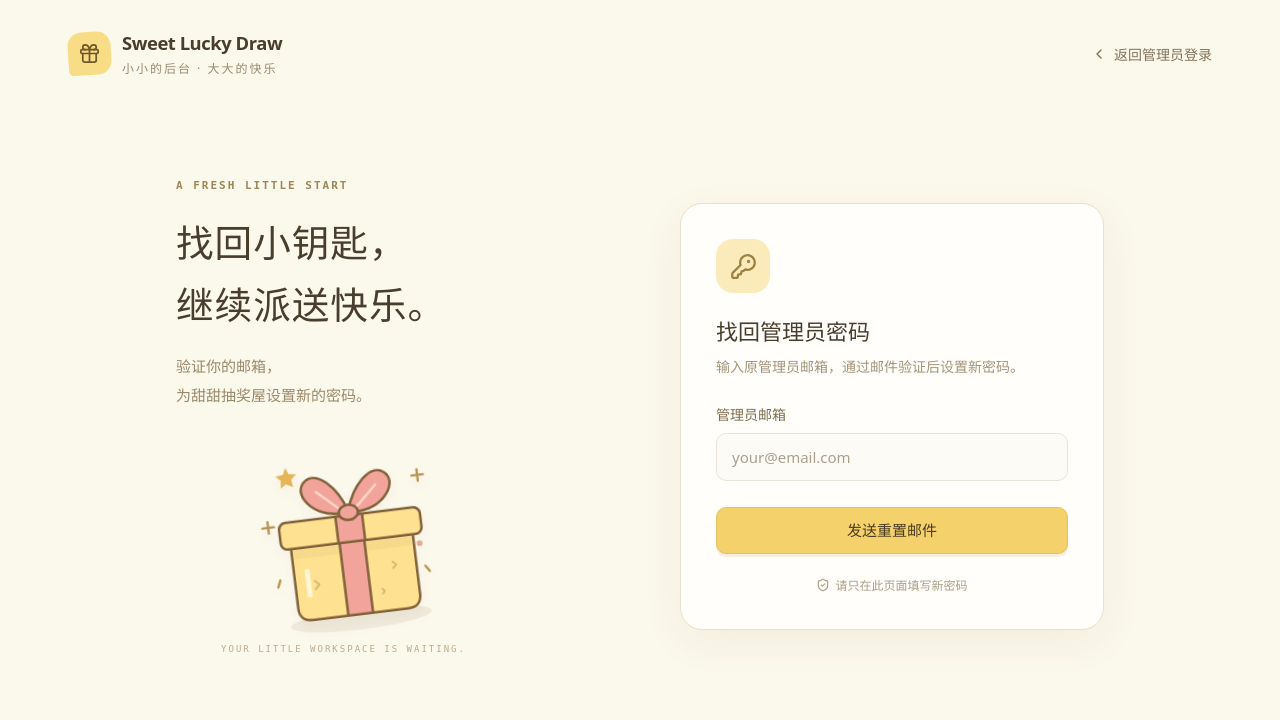
Test: password recovery › reports email configuration failure without claiming the message was sent
Type "admin@example.test" into the field labelled "管理员邮箱" at (892, 457), box [716,433,1068,481]
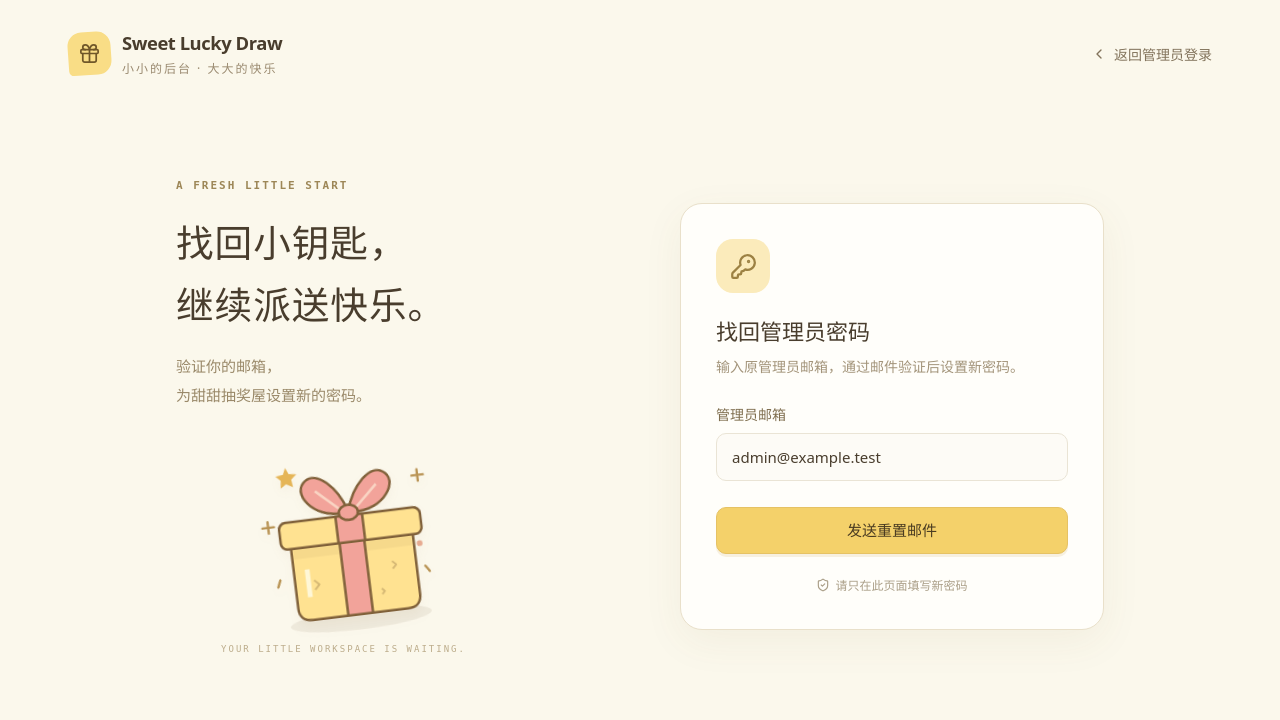
Click the button "发送重置邮件" at (892, 531), box [716,507,1068,554]
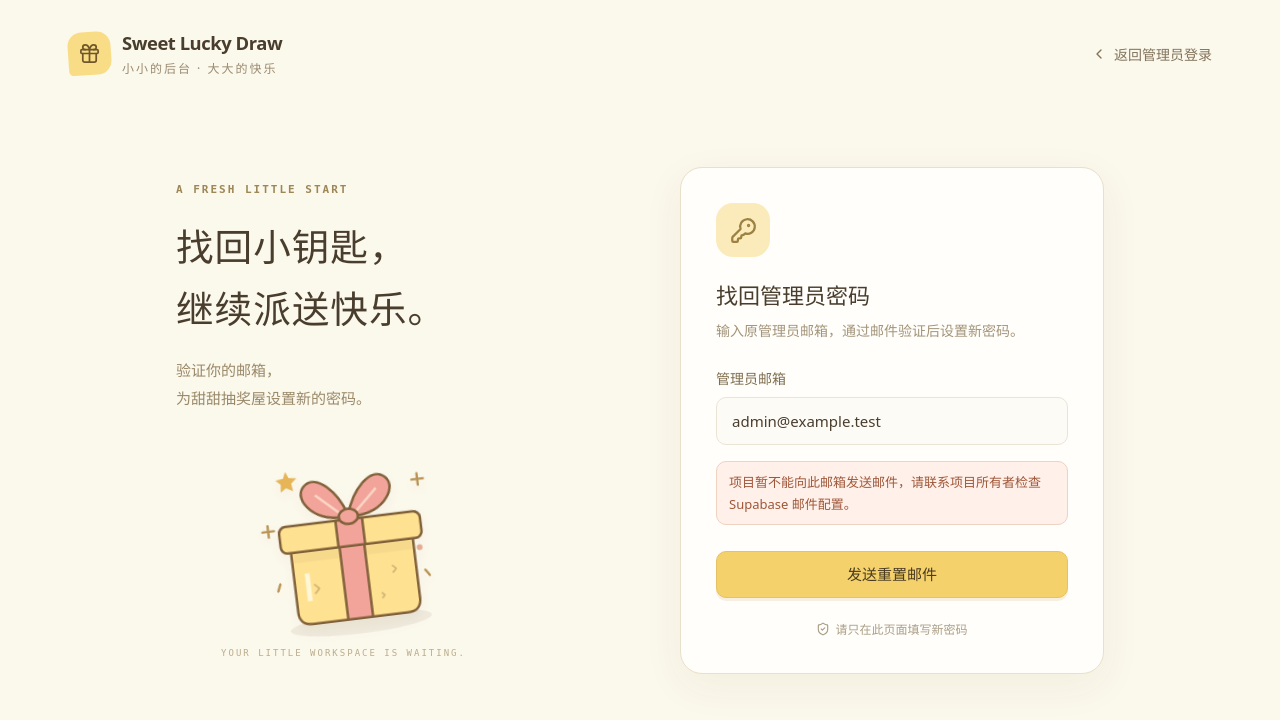
Result: the message shows "项目暂不能向此邮箱发送邮件" at [729,473,1041,513]
